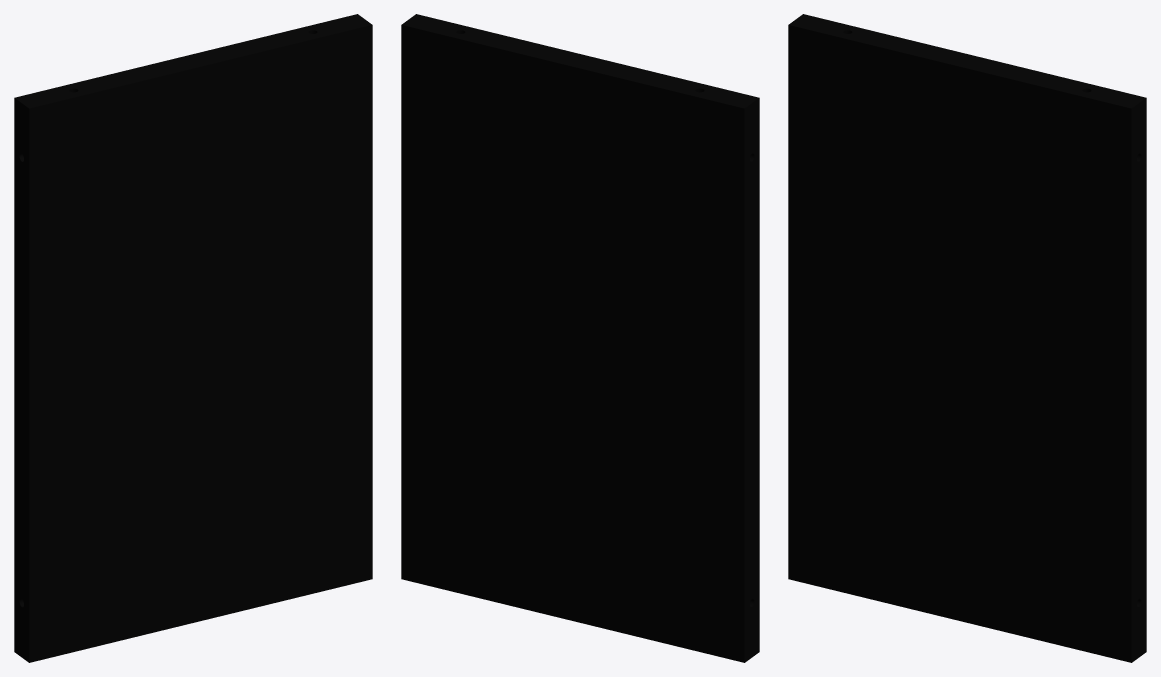
The model's file is Door_Panel_412x267.glb.
3 renders of one model, left to right at view 1: azimuth 30°, elevation 25°; view 2: azimuth 150°, elevation 25°; view 3: azimuth 330°, elevation 25°, orthographic.
Parts seen in each view (by area): view 1: Door_Panel_412x267; view 2: Door_Panel_412x267; view 3: Door_Panel_412x267.
Part boxes in pixels (bbox=[...]): Door_Panel_412x267: bbox=[14, 14, 372, 662]; Door_Panel_412x267: bbox=[401, 14, 759, 662]; Door_Panel_412x267: bbox=[788, 14, 1146, 662].
Size of the model in its own units: 0.267 by 0.412 by 0.02.
Materials: 1 (1 with a texture image).
